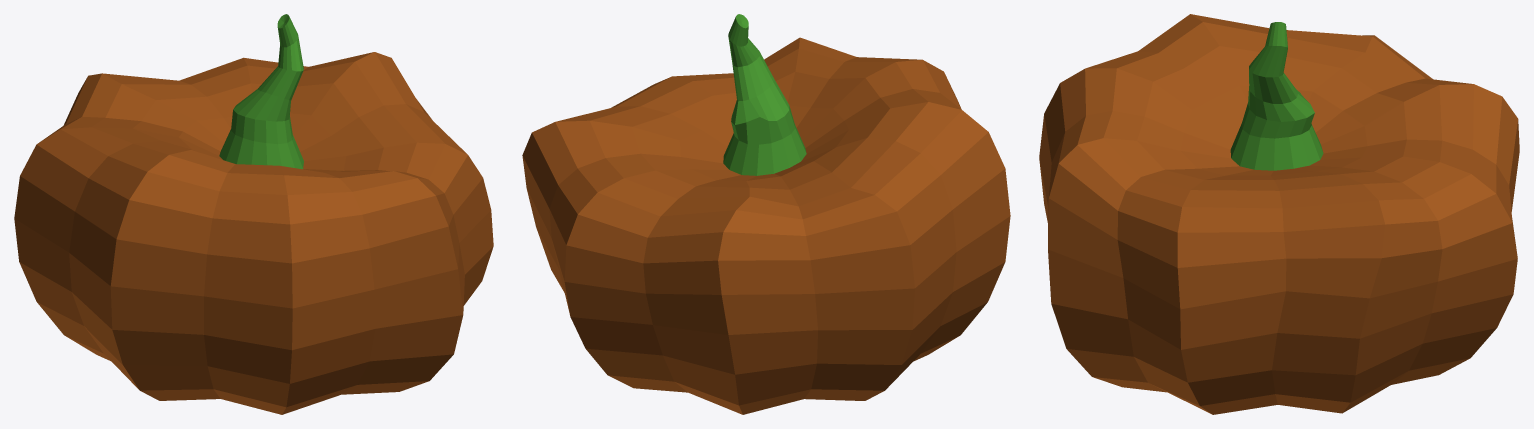
File: Pumpkin.fbx
The picture shows the model from 3 angles, left to right: view 1: azimuth 30°, elevation 25°; view 2: azimuth 150°, elevation 25°; view 3: azimuth 270°, elevation 25°; orthographic projection. The views are drawn at different scales.
Parts seen in each view (by area): view 1: pumpkin, stem; view 2: pumpkin, stem; view 3: pumpkin, stem.
Part boxes in pixels (bbox=[...]): pumpkin: bbox=[14, 52, 493, 414]; stem: bbox=[219, 14, 303, 169]; pumpkin: bbox=[522, 37, 1010, 414]; stem: bbox=[723, 14, 806, 175]; pumpkin: bbox=[1039, 14, 1519, 414]; stem: bbox=[1230, 22, 1323, 170].
Size of the model in its own units: 186 by 152 by 188.
